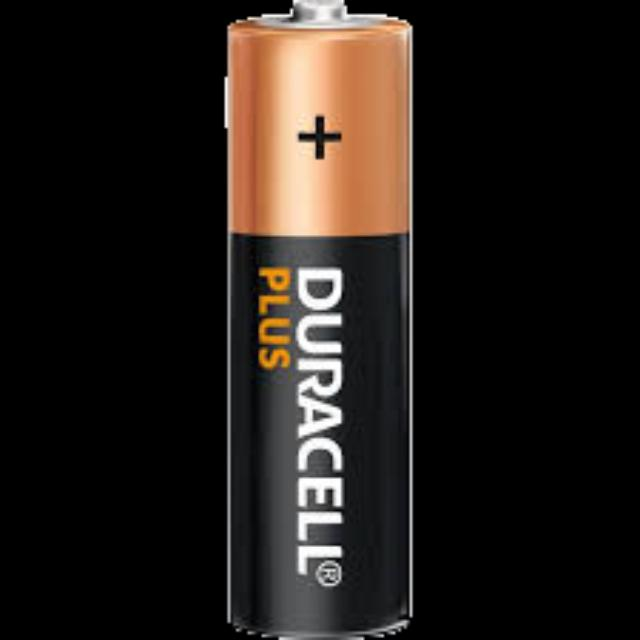Battery: (230, 0, 412, 640)
